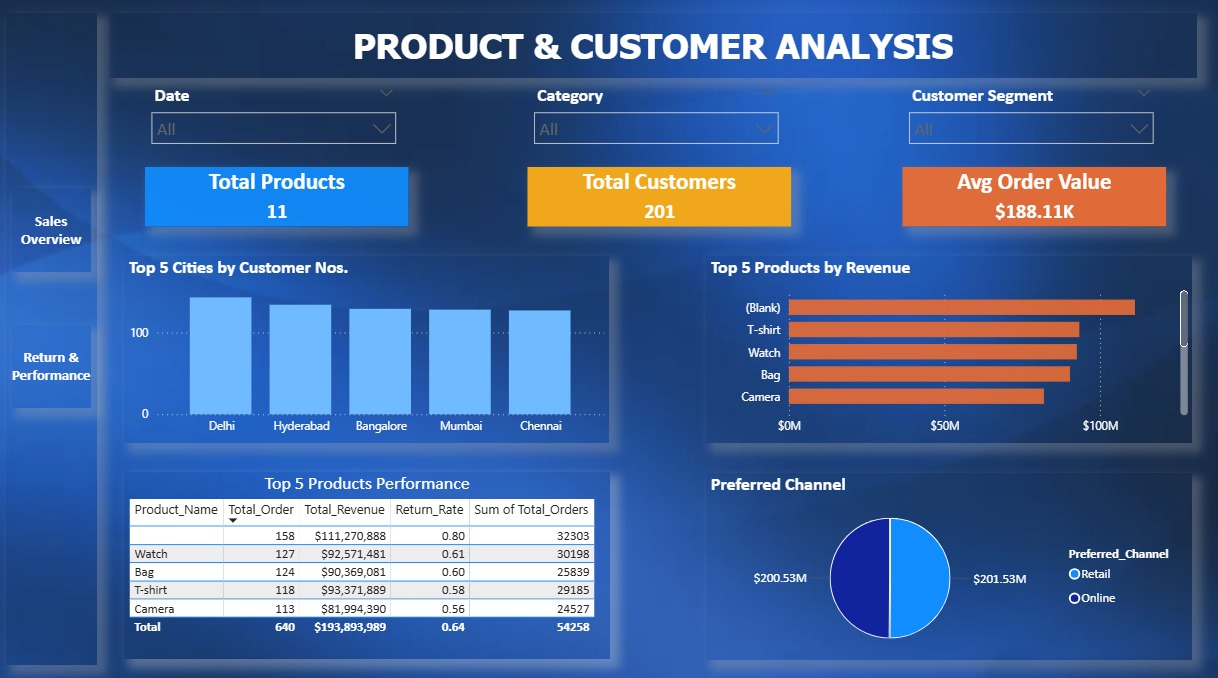

This screenshot's page, from the dashboard's own definition file:
{"tool":"powerbi","page":{"name":"P & C Analysis","canvas":[1280,720],"ordinal":1},"visuals":[{"type":"shape","box":[115.3,17.7,1133.7,68],"z":0},{"type":"slicer","title":"Date","fields":{"Values":["Product_Data.Launch_Date"]},"box":[150.8,85.7,274.9,76.9],"z":1000},{"type":"slicer","title":"Date","fields":{"Values":["Product_Data.Category"]},"box":[548.4,85.7,274.9,76.9],"z":2000},{"type":"slicer","title":"Date","fields":{"Values":["Customer_Data.Segment"]},"box":[940,85.7,274.9,76.9],"z":3000},{"type":"card","title":"Total Customers","fields":{"Values":["Measures Table.Total Customers"]},"box":[551.3,178.8,274.9,62.1],"z":4000},{"type":"card","title":"Avg Order Value","fields":{"Values":["Measures Table.Avg_Order_Value"]},"box":[943,178.8,274.9,62.1],"z":6000},{"type":"card","title":"Total Products","fields":{"Values":["Customer_Data.Total Products"]},"box":[153.7,178.8,274.9,62.1],"z":7000},{"type":"pieChart","title":"Preferred Channel","fields":{"Y":["Measures Table.Total_Revenue"],"Category":["Customer_Data.Preferred_Channel"]},"box":[737.6,496.6,507,195.1],"z":8000},{"type":"clusteredBarChart","title":"Top 5 Products by Revenue","fields":{"Category":["Product_Data.Product_Name"],"Y":["Measures Table.Total_Revenue"]},"box":[737.6,270.5,507,195.1],"z":9000},{"type":"columnChart","title":"Top 5 Cities by Customer Nos.","fields":{"Category":["Customer_Data.City"],"Y":["Measures Table.Total Customers"]},"box":[130.8,269.7,505.5,195.1],"z":10000},{"type":"tableEx","title":"Top 5 Products Performance ","fields":{"Values":["Product_Data.Product_Name","Measures Table.Total_Order","Measures Table.Total_Revenue","Measures Table.Return_Rate","Sum(Customer_Data.Total_Orders)"]},"box":[131.5,495.9,507,195.1],"z":11000},{"type":"shape","box":[8.5,17,95.2,679.9],"z":12000},{"type":"shape","box":[14.8,199.5,82.8,87.2],"z":13000},{"type":"shape","box":[14.8,342.9,82.8,87.2],"z":14000}]}

Visuals, with their boxes in screenshot pixels (x1, y1, x2, y2), scaled from the page's 1280x720 canvas onto the 1218x678 screenshot:
shape: bbox=(110, 17, 1189, 81)
"Date" slicer: bbox=(143, 81, 405, 153)
"Date" slicer: bbox=(522, 81, 783, 153)
"Date" slicer: bbox=(894, 81, 1156, 153)
"Total Customers" card: bbox=(525, 168, 786, 227)
"Avg Order Value" card: bbox=(897, 168, 1159, 227)
"Total Products" card: bbox=(146, 168, 408, 227)
"Preferred Channel" pieChart: bbox=(702, 468, 1184, 651)
"Top 5 Products by Revenue" clusteredBarChart: bbox=(702, 255, 1184, 438)
"Top 5 Cities by Customer Nos." columnChart: bbox=(124, 254, 605, 438)
"Top 5 Products Performance " tableEx: bbox=(125, 467, 608, 651)
shape: bbox=(8, 16, 99, 656)
shape: bbox=(14, 188, 93, 270)
shape: bbox=(14, 323, 93, 405)
